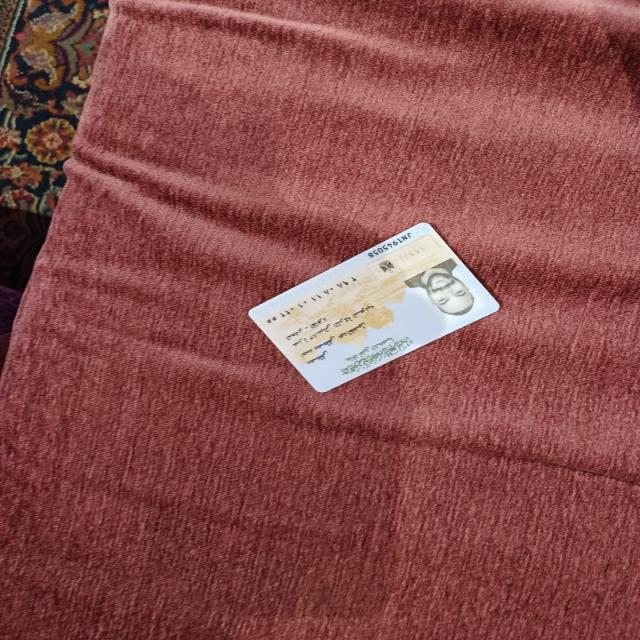id_card: (241, 216, 513, 403)
